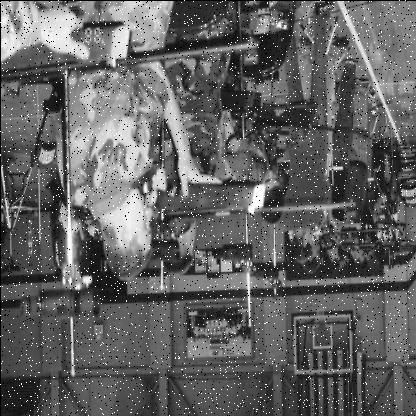rifle: (124, 162, 364, 219)
